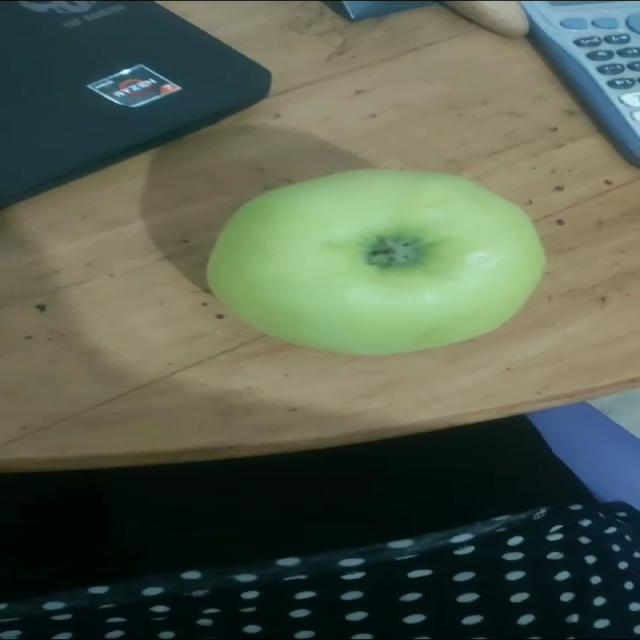50-_ripeness: (202, 168, 542, 355)
